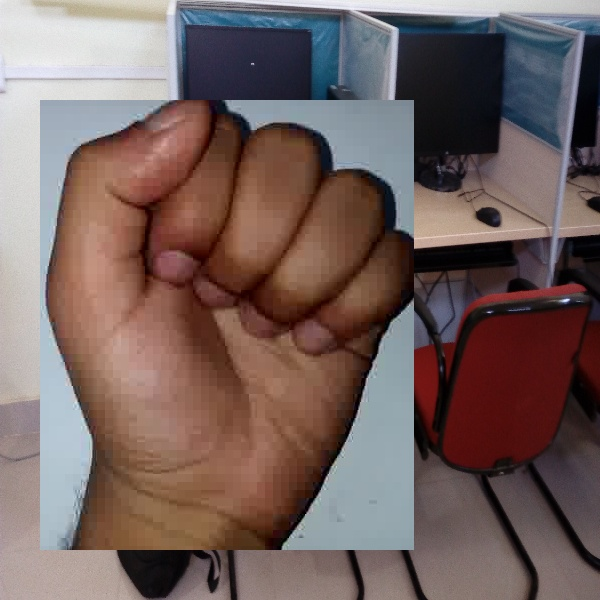A: (40, 100, 414, 550)
